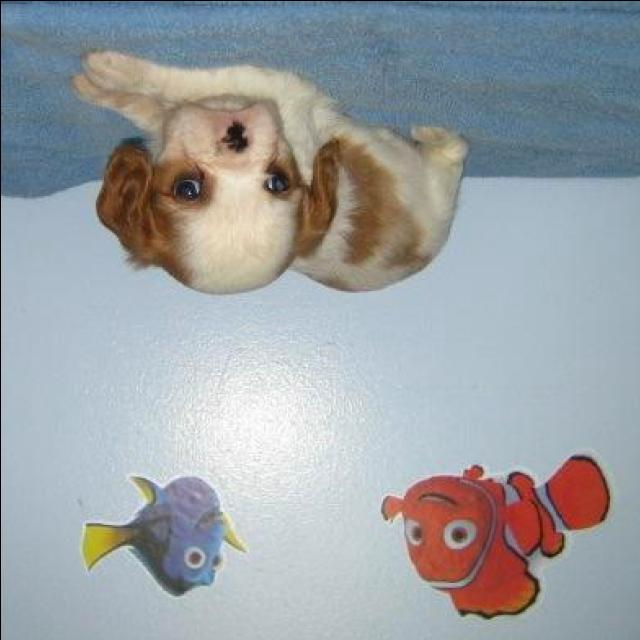blenheim_spaniel: (65, 45, 469, 302)
